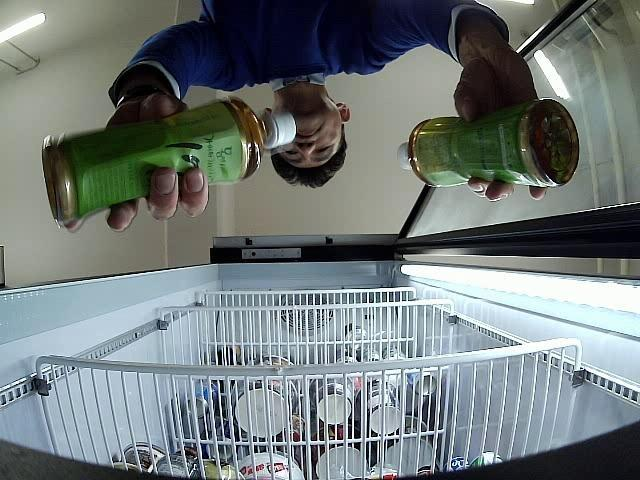19_17cha: (42, 97, 298, 231), (397, 98, 579, 189)
